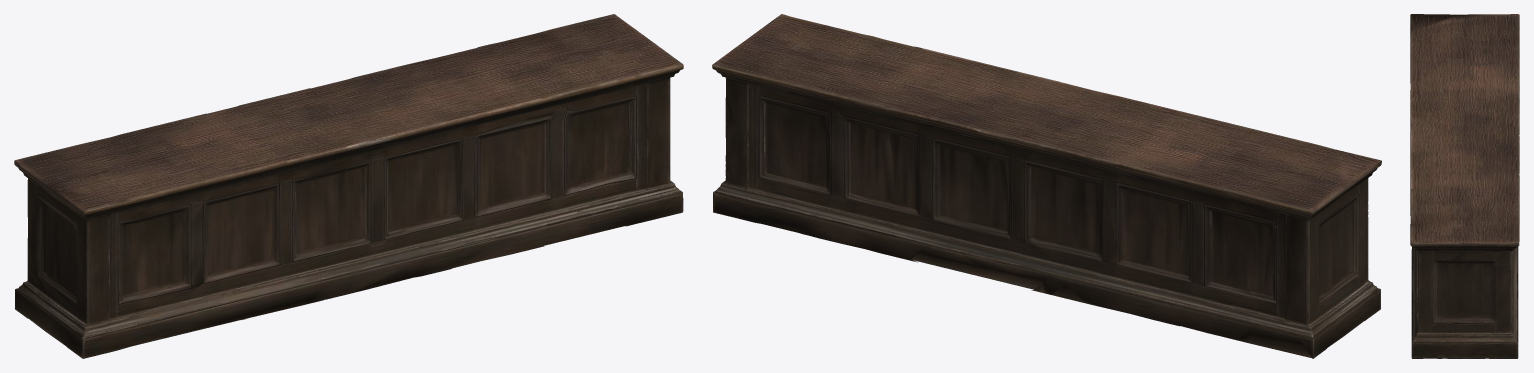
File: shop-counter-long-interior-lod.glb
3 renders of one model, left to right at view 1: azimuth 30°, elevation 25°; view 2: azimuth 150°, elevation 25°; view 3: azimuth 270°, elevation 25°, orthographic. The views are drawn at different scales.
Parts seen in each view (by area): view 1: Mesh_0; view 2: Mesh_0; view 3: Mesh_0.
Boxes of the visible parts, x1,y1,x2,y2 form: Mesh_0: [14, 14, 683, 358]; Mesh_0: [712, 14, 1381, 358]; Mesh_0: [1410, 14, 1519, 358].
Bounding box in the file's own units: 1.9 × 0.4493 × 0.3824.
Materials: 1 (1 with a texture image).
